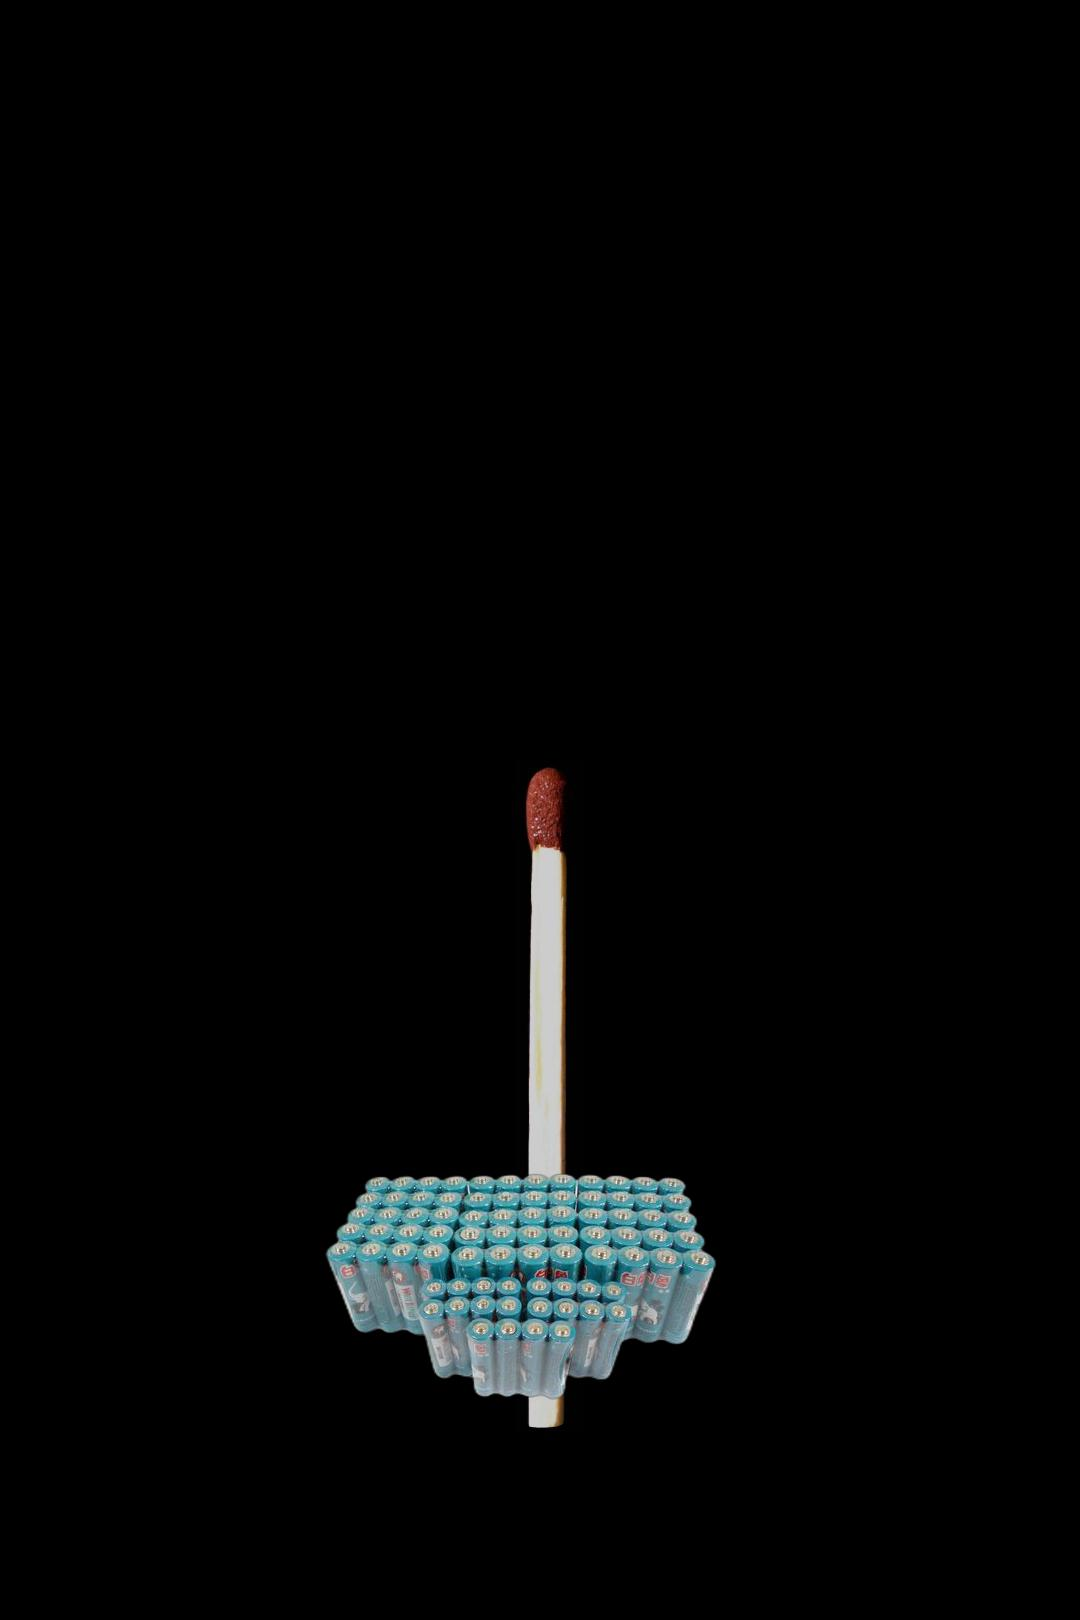battery: (321, 1170, 722, 1402)
